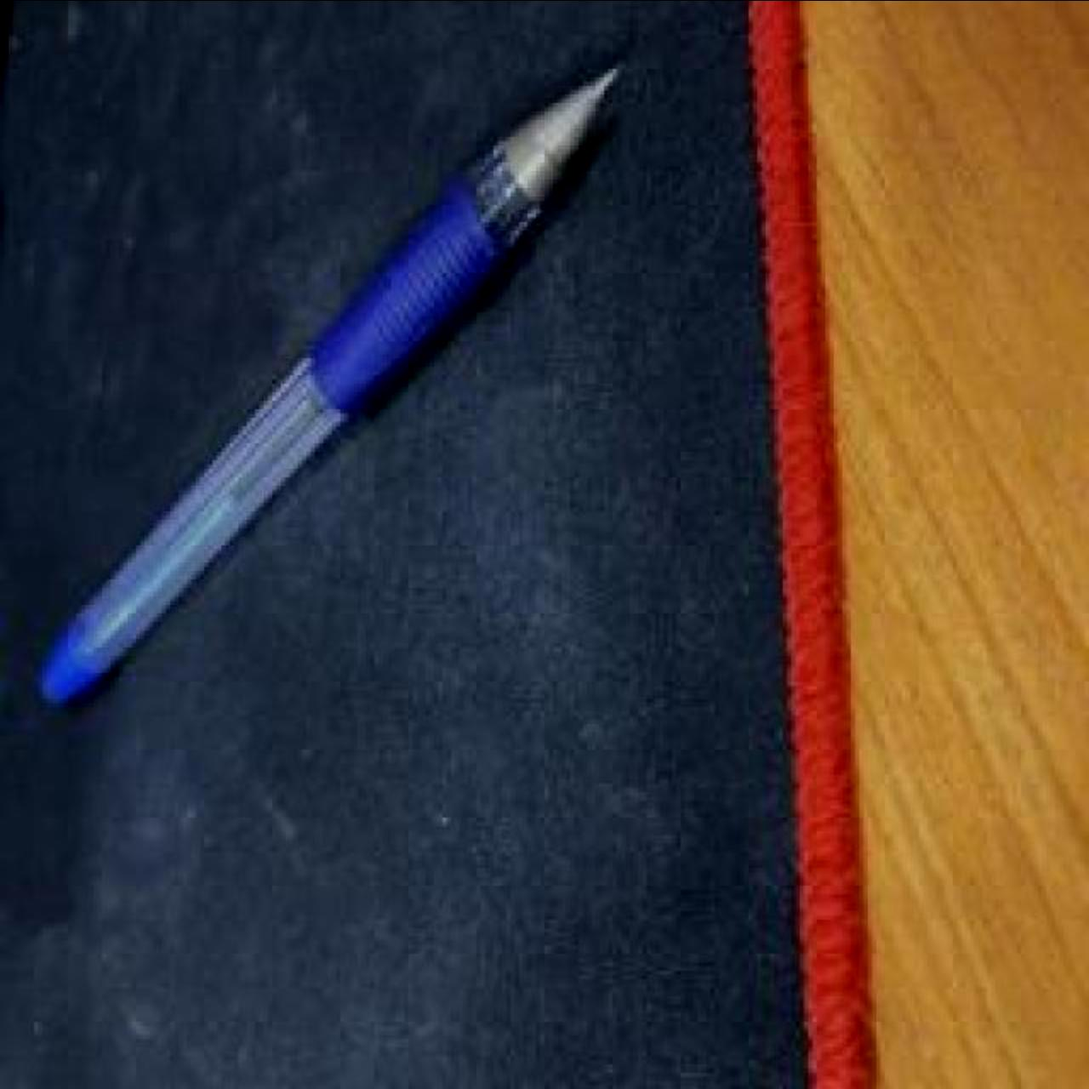pen: (39, 51, 626, 706)
